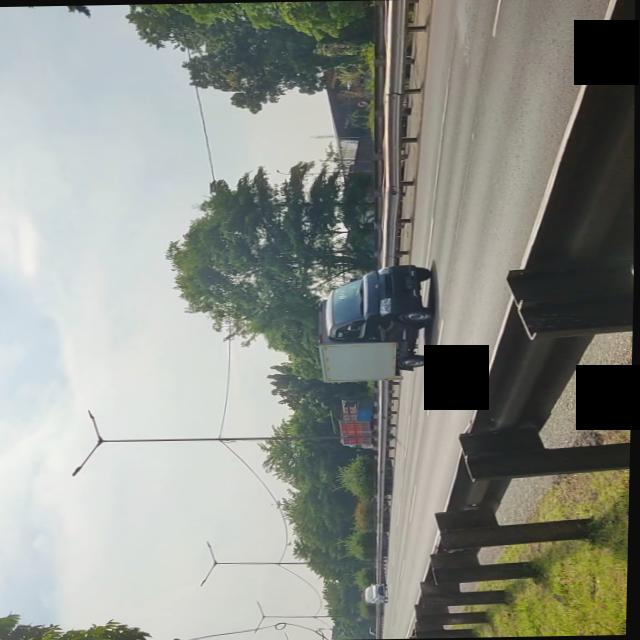Golongan I: (309, 262, 441, 384)
